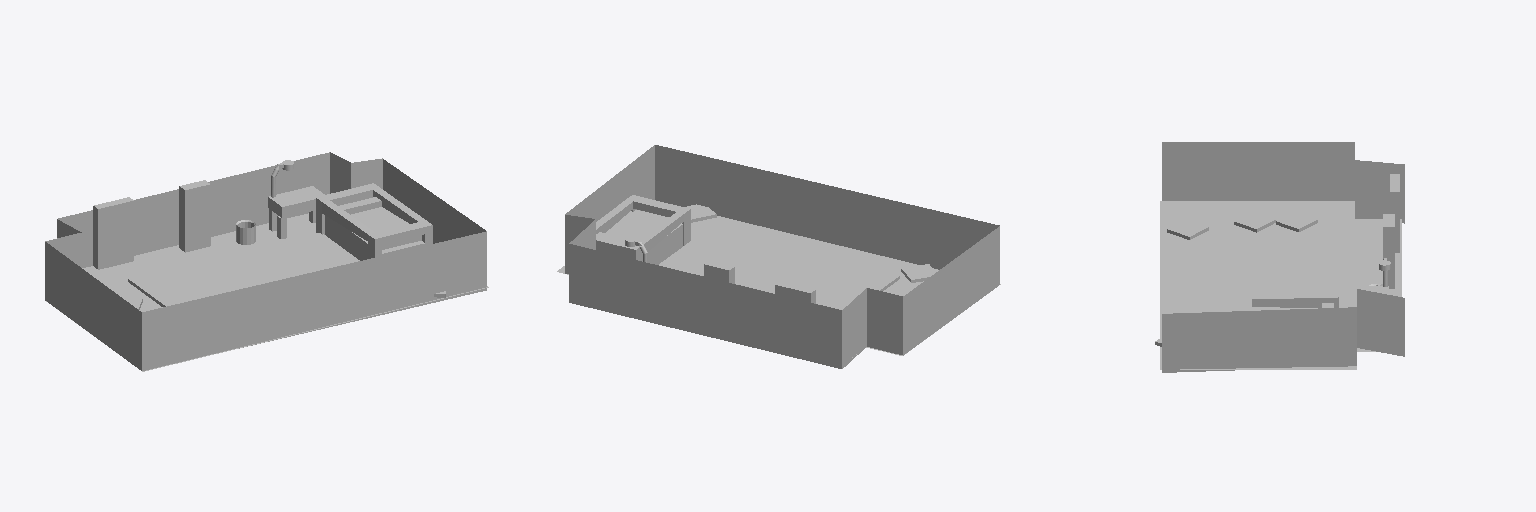
Rendered from dream_diary.obj.
3 renders of one model, left to right at view 1: azimuth 30°, elevation 25°; view 2: azimuth 150°, elevation 25°; view 3: azimuth 270°, elevation 25°, orthographic.
Visible parts, largest first — view 1: 平面, 立方体; view 2: 平面, 立方体; view 3: 平面, 立方体.
Part boxes in pixels (x1,y1,x2,y2): 平面: (45,152,488,371); 立方体: (316,183,432,258); 平面: (557,145,1000,368); 立方体: (596,195,690,261); 平面: (1155,142,1404,372); 立方体: (1239,294,1351,310).
Bounding box in the file's own units: 4.9 × 0.9287 × 3.06.